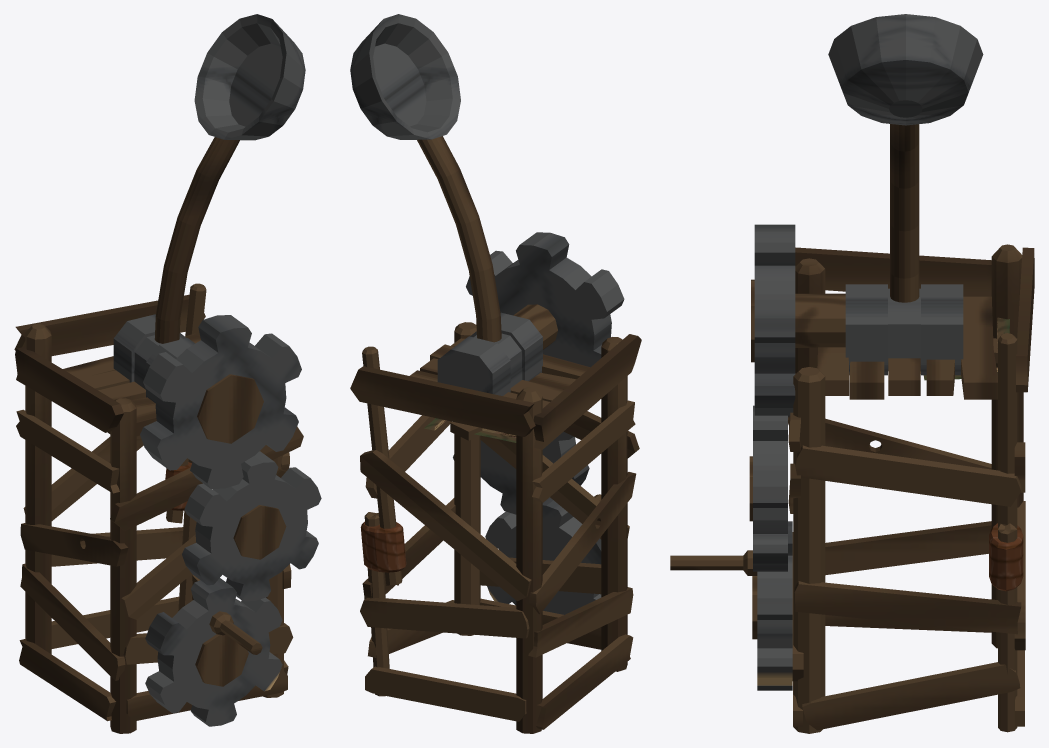
File: Tower3Mesh.fbx
3 views of the same model, side by side, from view 1: azimuth 30°, elevation 25°; view 2: azimuth 150°, elevation 25°; view 3: azimuth 270°, elevation 25° (orthographic). The views are drawn at different scales.
Parts seen in each view (by area): view 1: Tower 3.001; view 2: Tower 3.001; view 3: Tower 3.001.
Boxes of the visible parts, box(x1,y1,x2,y2) form: Tower 3.001: box(14, 14, 321, 733); Tower 3.001: box(350, 14, 641, 733); Tower 3.001: box(670, 14, 1034, 733).
Size of the model in its own units: 312 by 822 by 367.
